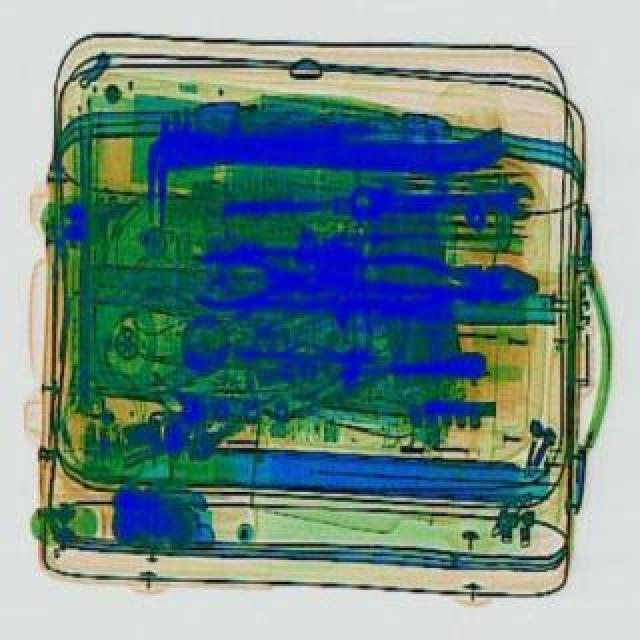scissors: (352, 180, 534, 216)
wrench: (348, 244, 540, 308), (192, 244, 344, 316)
